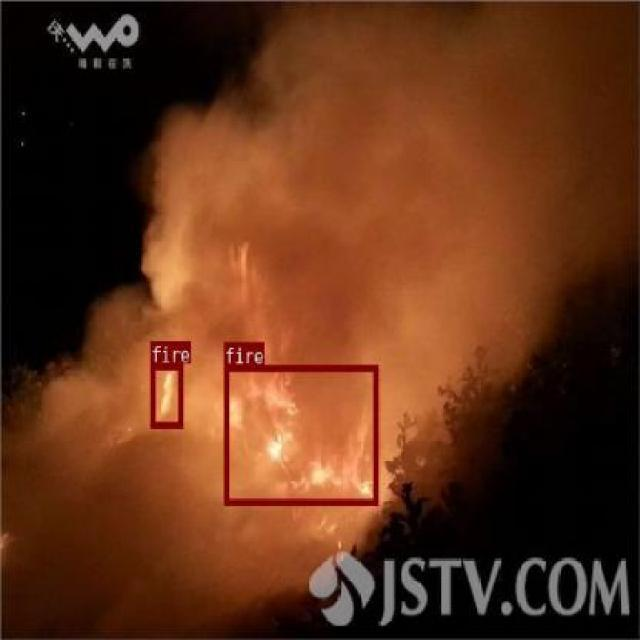Fire: (223, 364, 377, 504), (150, 362, 182, 428)
Smoke: (108, 16, 640, 324), (0, 350, 355, 636)
